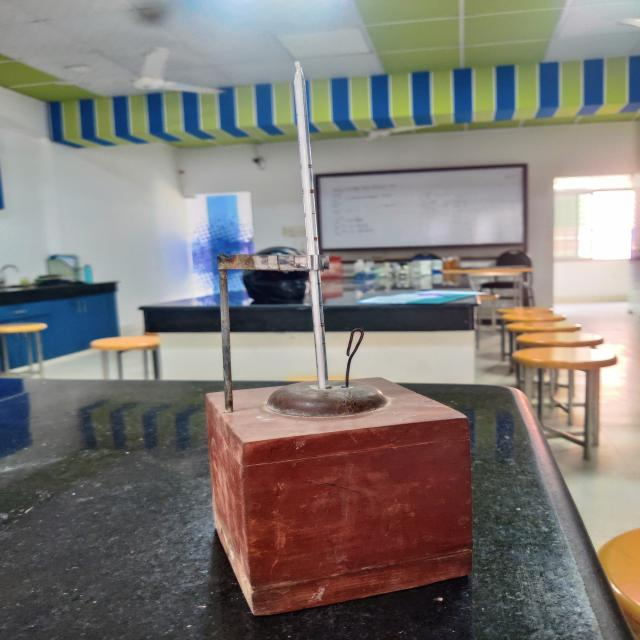Calorimeter: (145, 50, 492, 622)
